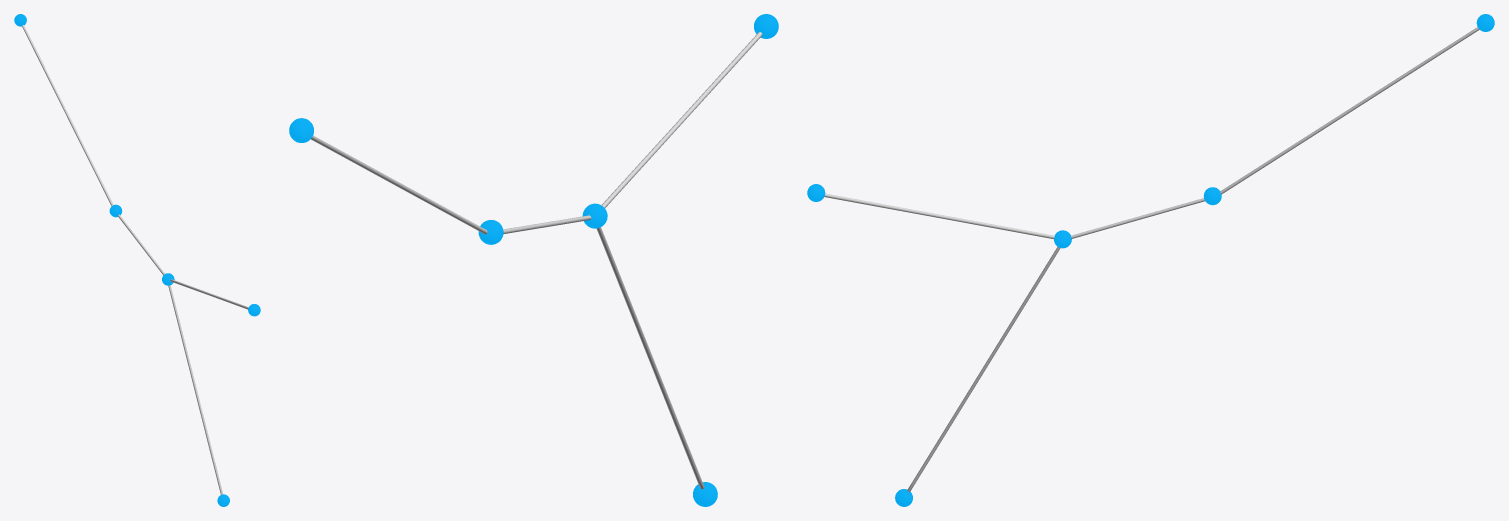
The model's file is Kark.glb.
The picture shows the model from 3 angles, left to right: view 1: azimuth 30°, elevation 25°; view 2: azimuth 150°, elevation 25°; view 3: azimuth 270°, elevation 25°; orthographic projection. The views are drawn at different scales.
Visible parts, largest first — view 1: BézierCurve.003; view 2: BézierCurve.003; view 3: BézierCurve.003.
Part boxes in pixels (<box>): BézierCurve.003: <box>14,14,260,506</box>; BézierCurve.003: <box>289,14,778,506</box>; BézierCurve.003: <box>807,14,1494,506</box>.
Bounding box in the file's own units: 0.1011 × 3.04 × 3.85.
